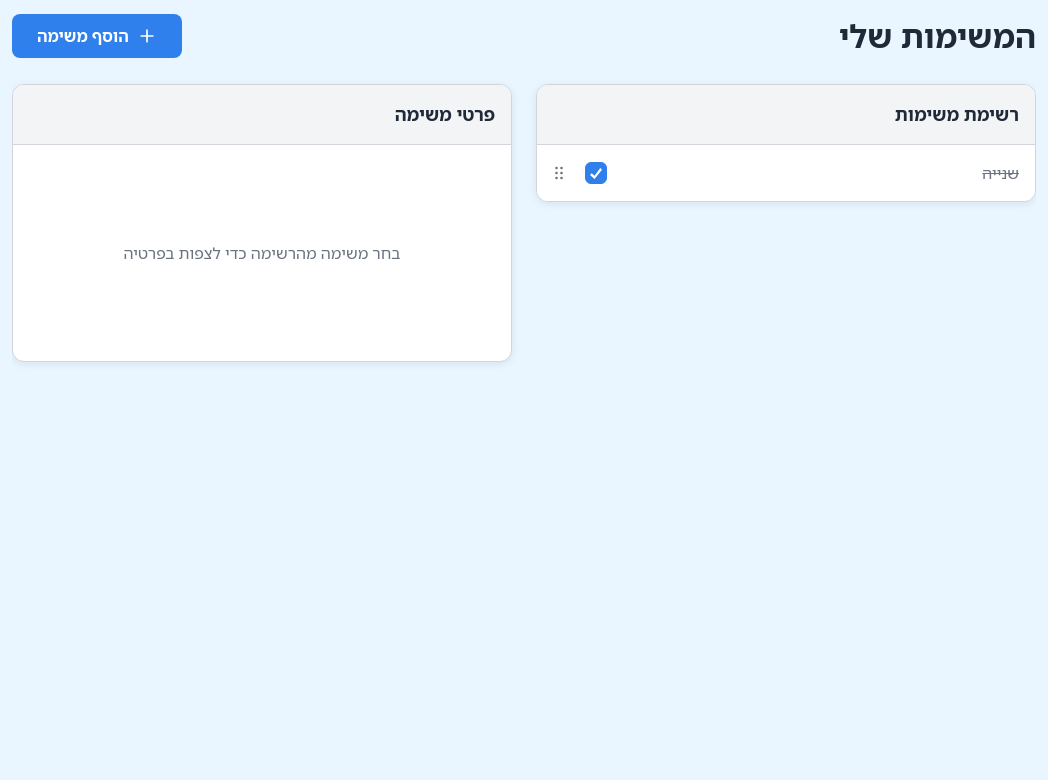
Test: HomePage – edit task details › allows an unchanged past due date but blocks changing it to another past date
The width and height of the screenshot is (1048, 780).
Click the button "שנייה" at (1001, 173), box [615,145,1035,201]
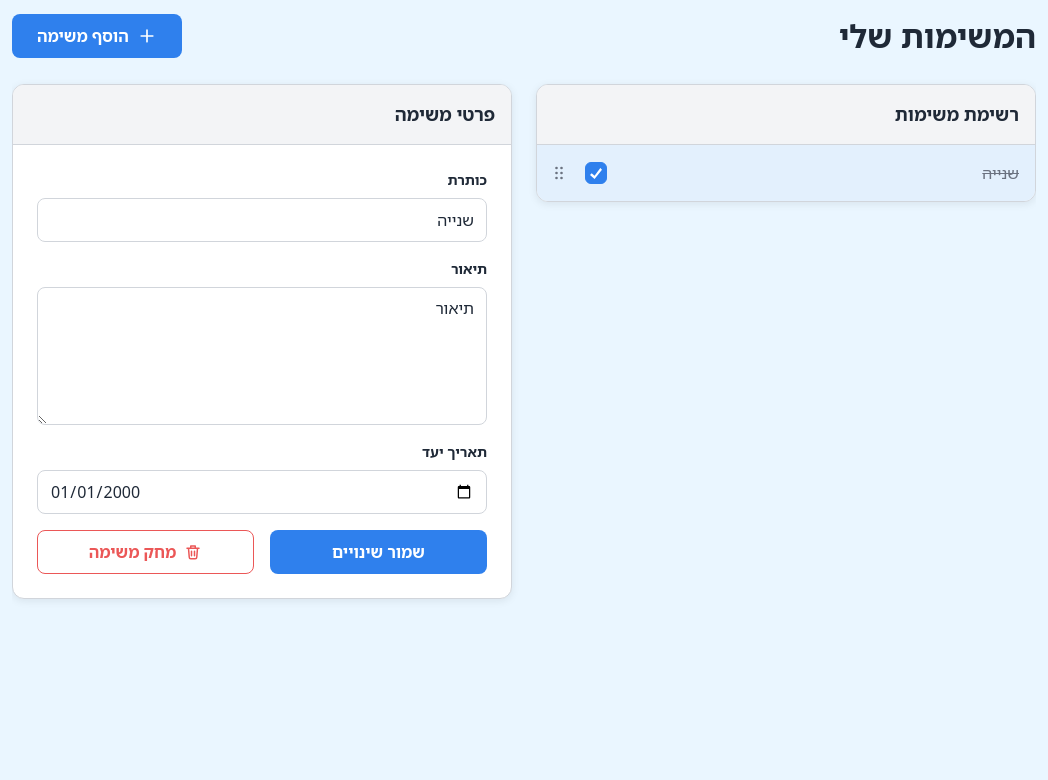
Type "2000-01-02" into the date field labelled "תאריך יעד" at (262, 492), box [37,470,487,514]
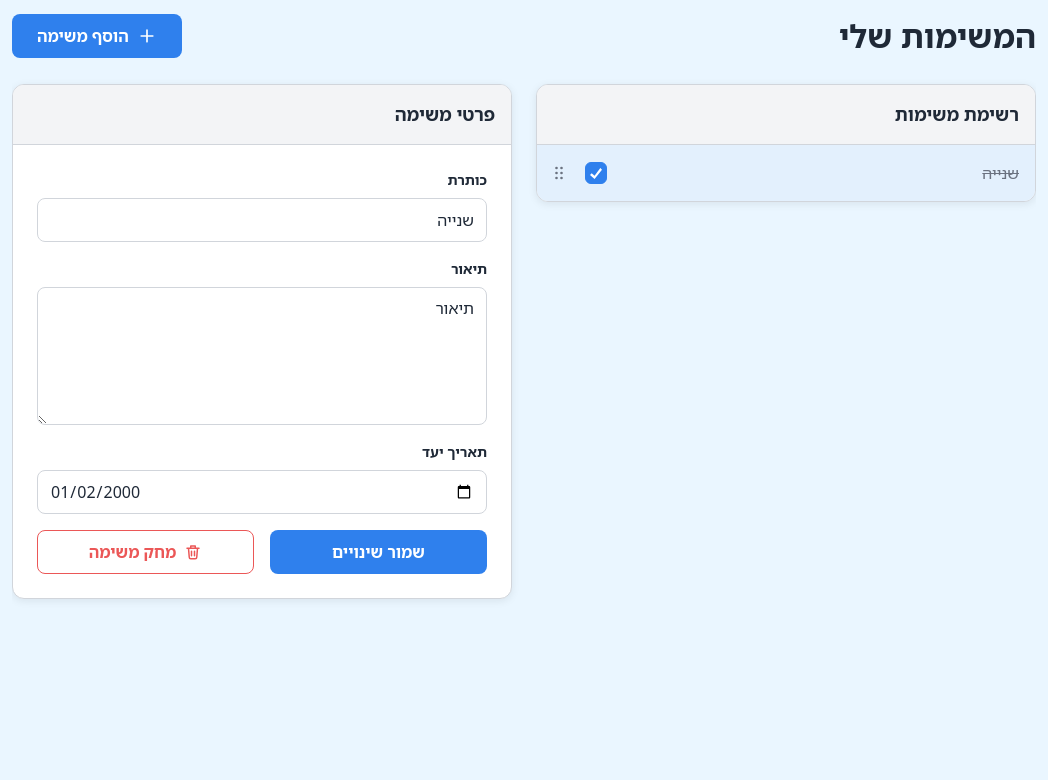
Click the button "שמור שינויים" at (378, 552), box [270,530,487,574]
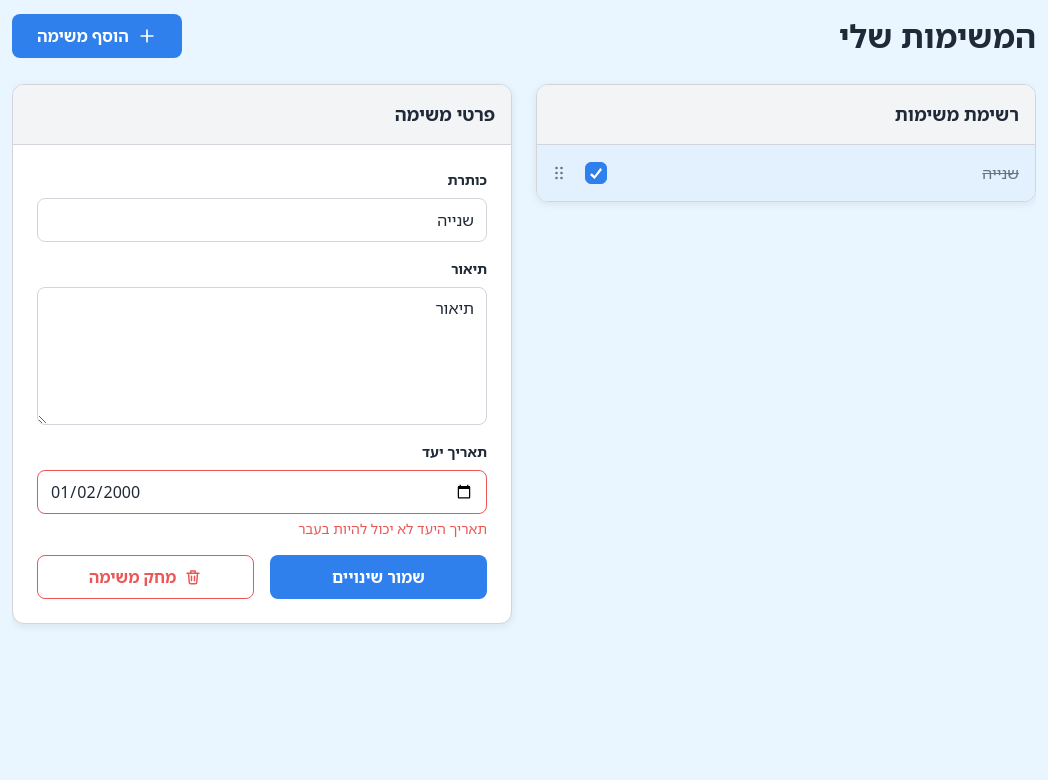
Result: the text "תאריך היעד לא יכול להיות בעבר" is shown at [298,519,487,538]
Type "2000-01-01" into the date field labelled "תאריך יעד" at (262, 492), box [37,470,487,514]
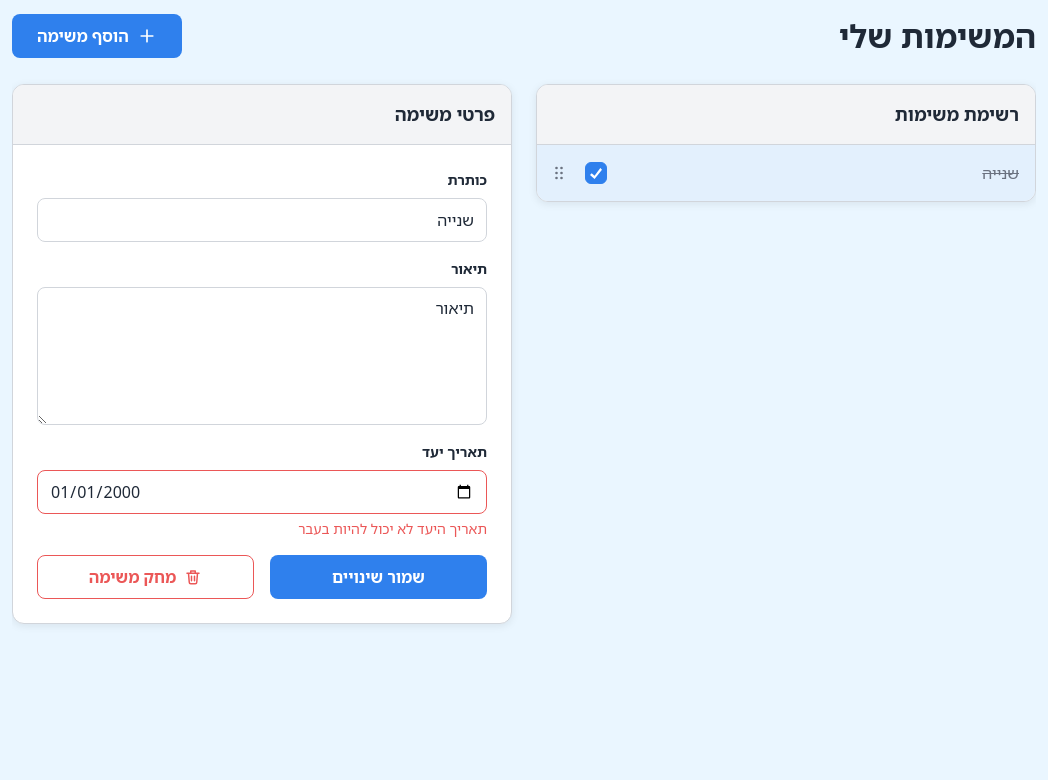
Click the button "שמור שינויים" at (378, 577), box [270,555,487,599]
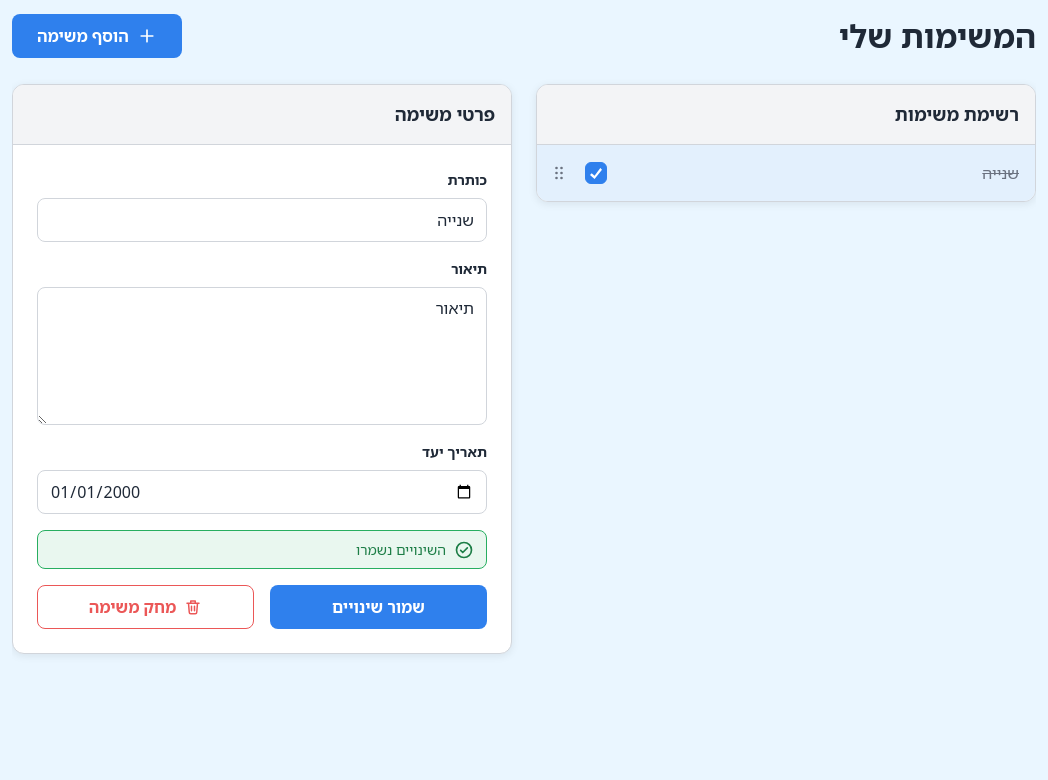
Result: the message reads "השינויים נשמרו" at [356,540,446,559]
